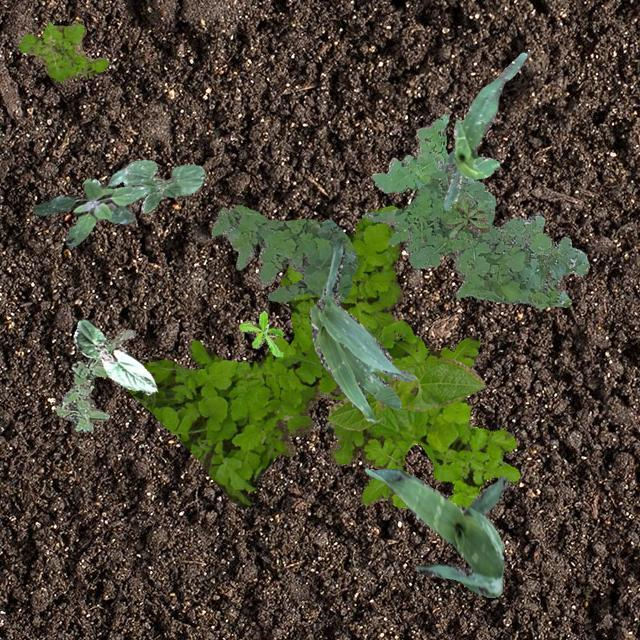crop: (308, 238, 416, 420), (364, 468, 506, 596), (442, 52, 526, 210), (326, 358, 484, 430), (72, 320, 156, 394), (122, 158, 204, 212)
weed: (126, 204, 402, 506), (278, 320, 518, 507), (360, 166, 588, 308), (210, 204, 358, 302), (32, 166, 150, 246), (54, 329, 134, 432), (372, 112, 448, 192), (17, 20, 108, 80), (238, 310, 282, 356), (444, 194, 488, 237)
